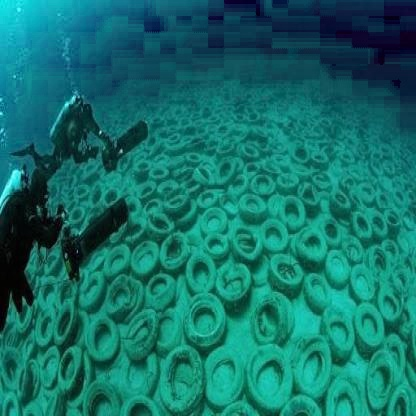tire: (137, 269, 190, 338), (158, 342, 204, 416), (184, 279, 237, 342), (204, 344, 249, 416), (37, 298, 88, 352), (89, 309, 133, 368), (151, 174, 193, 226), (195, 212, 232, 258), (241, 228, 277, 272)
